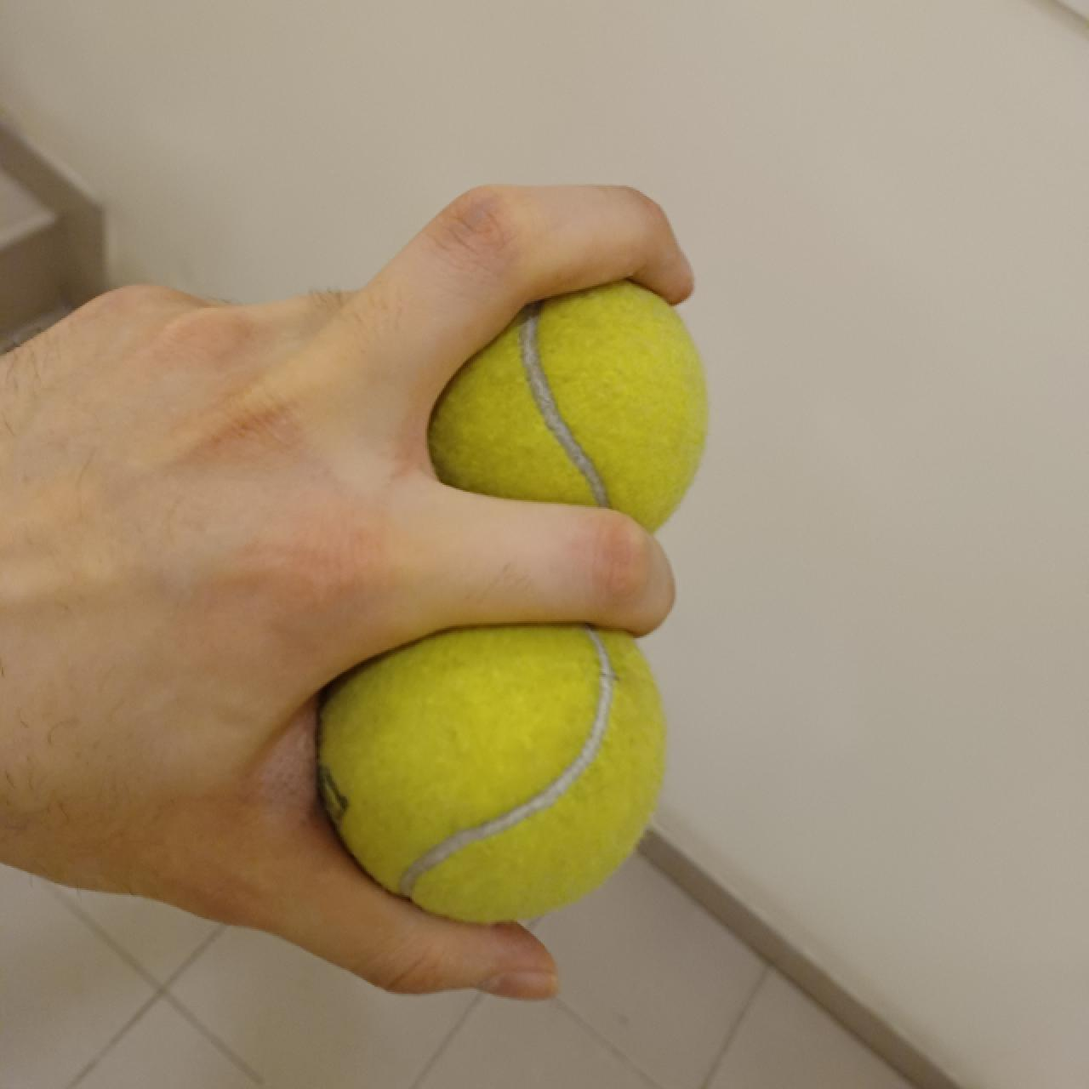tennis-ball: (308, 599, 673, 928), (416, 266, 713, 543)
